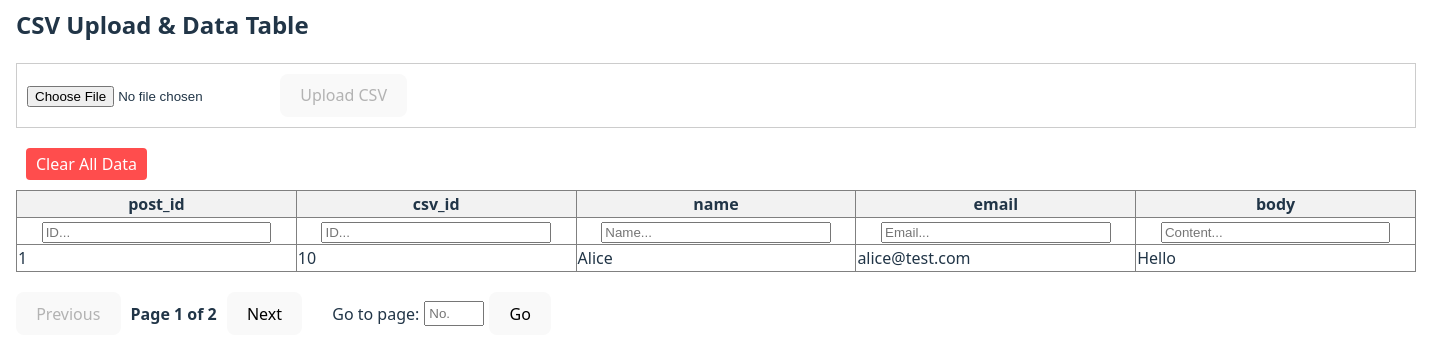
it: App › pagination buttons are disabled at boundaries
The width and height of the screenshot is (1433, 352).
Check: the button "Previous" is disabled, box [16, 292, 120, 335]
Click the button "Next": (265, 314) [227, 292, 302, 335]
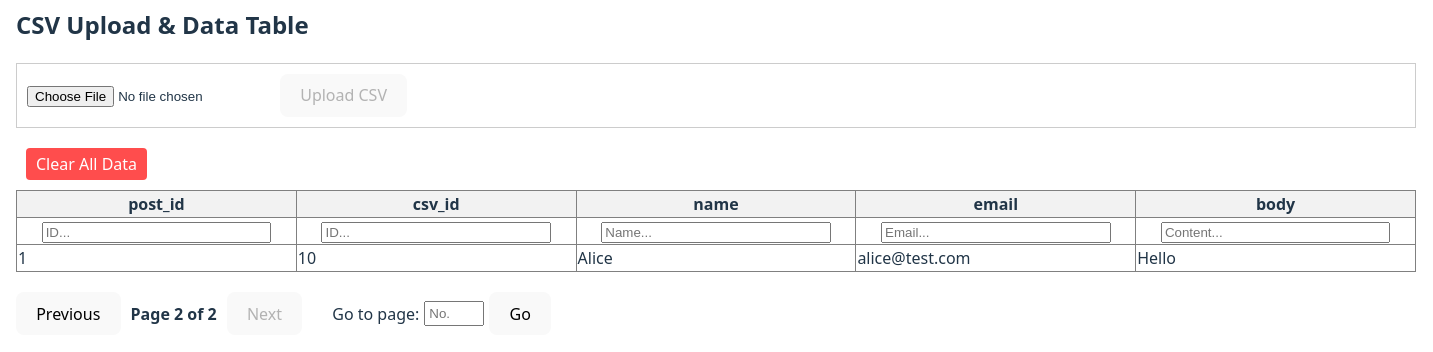
Check: the button "Next" is disabled, box [227, 292, 302, 335]
Check: the button "Previous" is enabled, box [16, 292, 120, 335]
